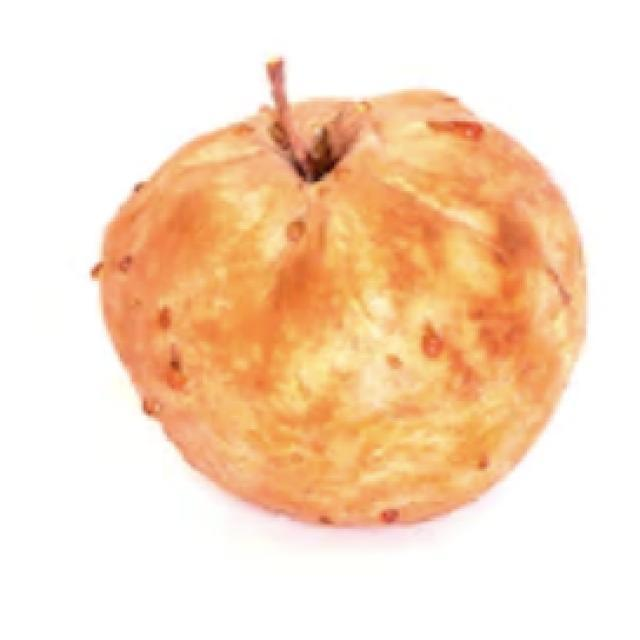Rotten: (97, 74, 588, 508)
